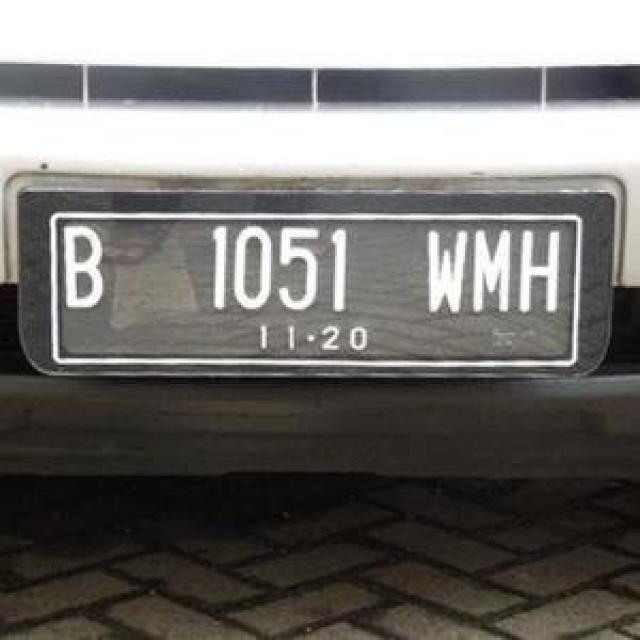lisence-plate: (28, 198, 602, 400)
